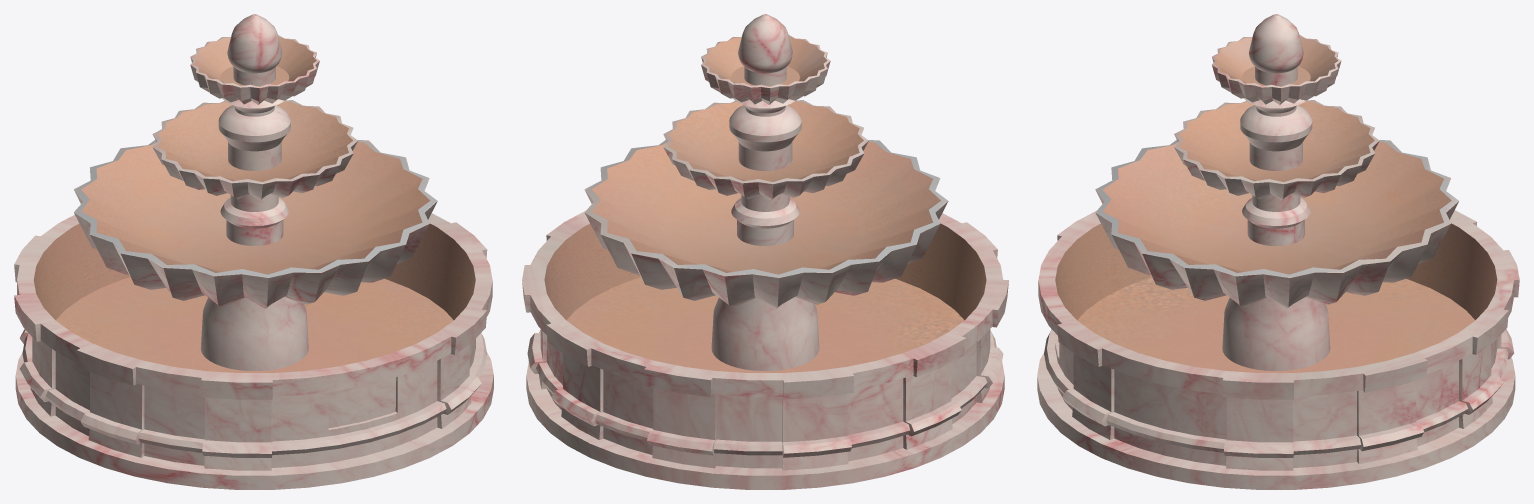
The model's file is fuenteeeee.fbx.
The picture shows the model from 3 angles, left to right: view 1: azimuth 30°, elevation 25°; view 2: azimuth 150°, elevation 25°; view 3: azimuth 270°, elevation 25°; orthographic projection.
Parts seen in each view (by area): view 1: Cylinder.001; view 2: Cylinder.001; view 3: Cylinder.001.
Boxes of the visible parts, bbox=[...] form: Cylinder.001: bbox=[14, 14, 493, 489]; Cylinder.001: bbox=[522, 14, 1008, 489]; Cylinder.001: bbox=[1037, 14, 1519, 489].
Bounding box in the file's own units: 747 × 635 × 742.
Materials: 2 (2 with a texture image).
